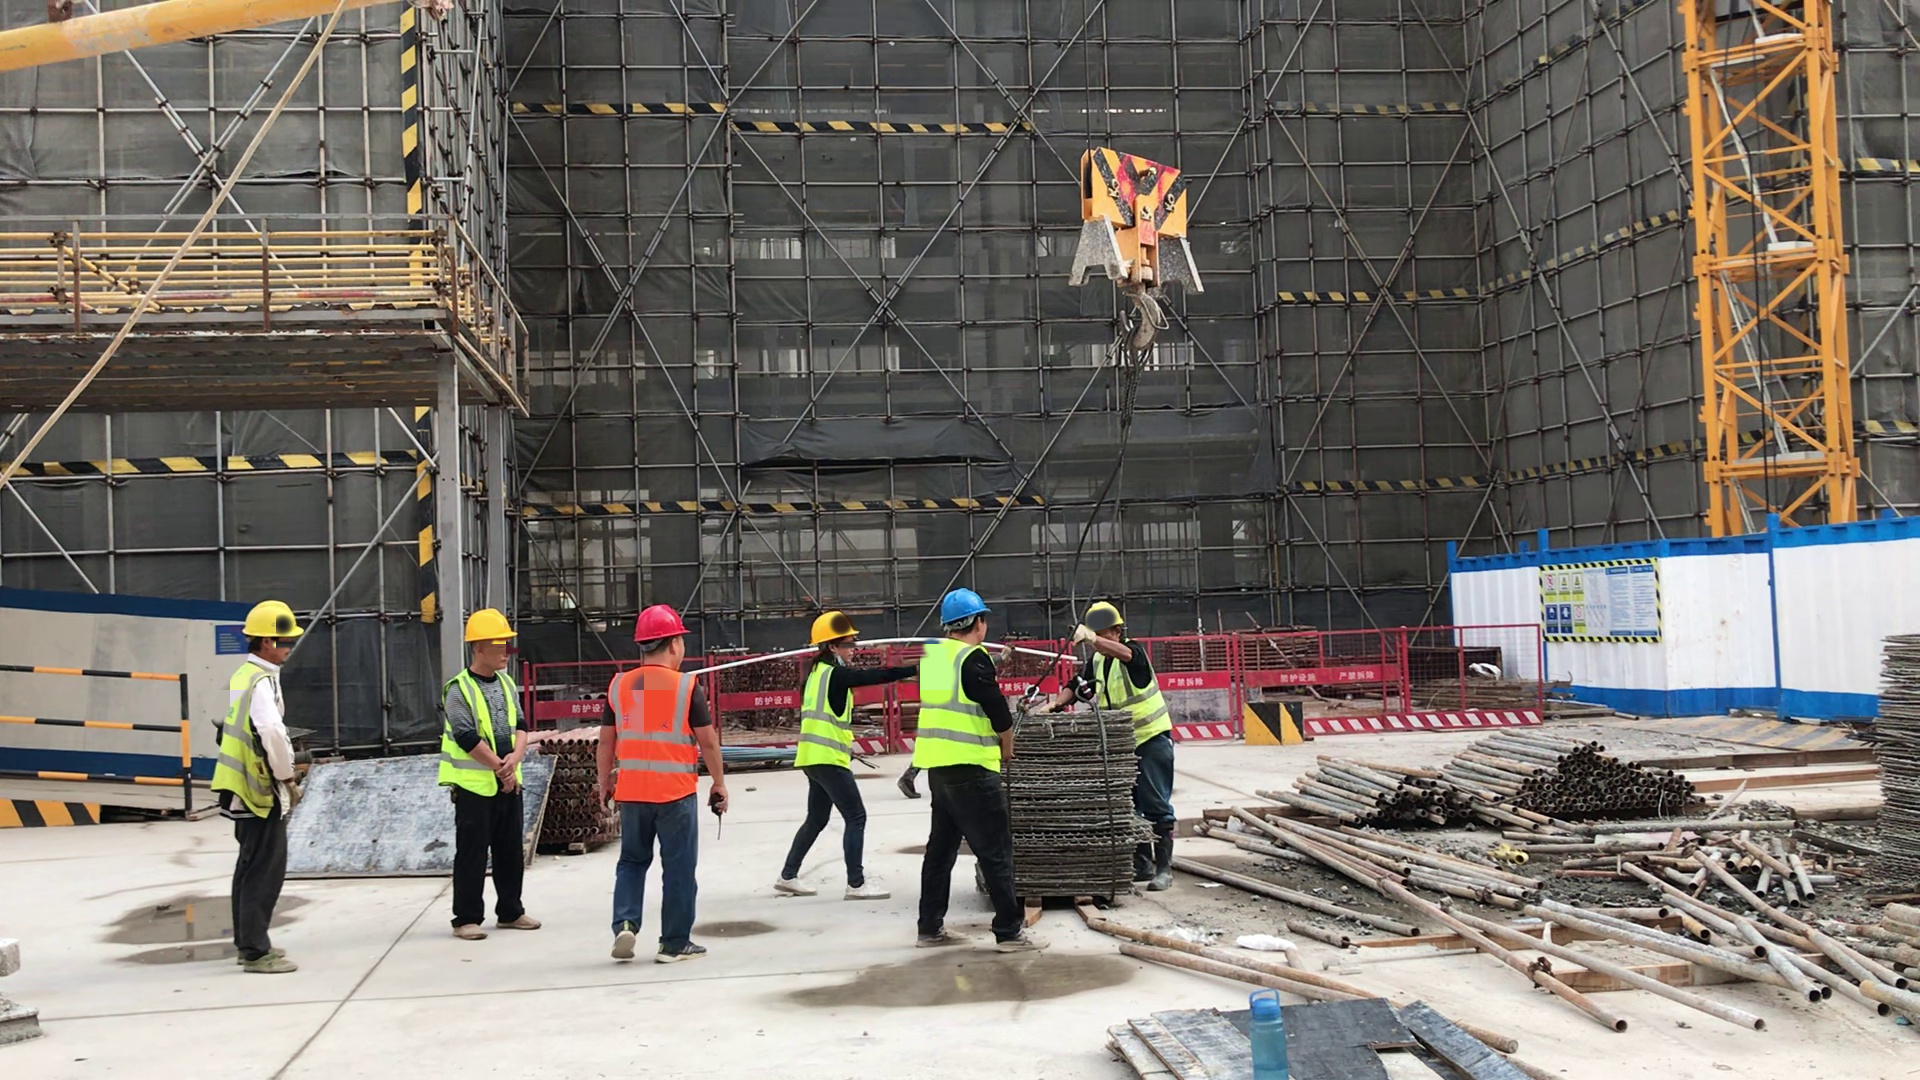helmet: (242, 600, 306, 644), (459, 610, 520, 646), (635, 607, 688, 645), (936, 593, 990, 627), (810, 611, 857, 644), (1083, 600, 1122, 629)
person: (914, 591, 1055, 960), (592, 604, 734, 965), (212, 598, 317, 985), (767, 605, 901, 907), (437, 605, 541, 945), (1036, 598, 1161, 712)
vest: (610, 662, 698, 811), (916, 635, 1005, 776), (441, 668, 526, 798), (223, 664, 288, 820), (797, 664, 861, 774), (1090, 643, 1161, 713)
